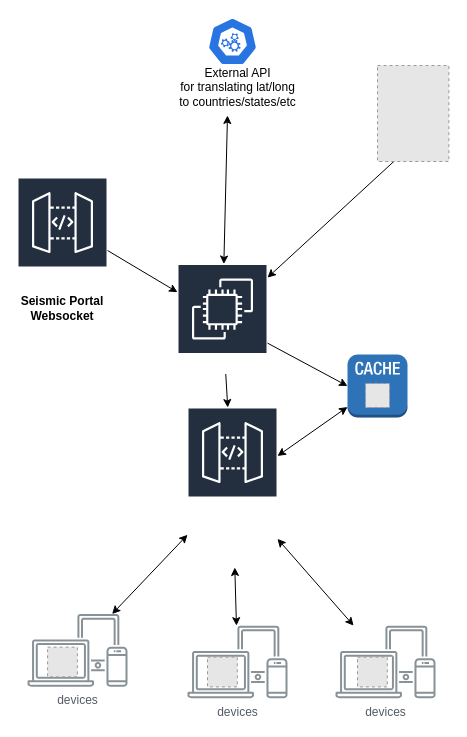
Some shapes in this 467 by 737 pixel diagram are drawn without their labels. Grey dashed boxes stand in for pictures. Each missing label, with the centre of its shape:
"Amazon API Gateway Websocket & API" goes at point (232, 487).
"Amazon EC2" goes at point (222, 318).
